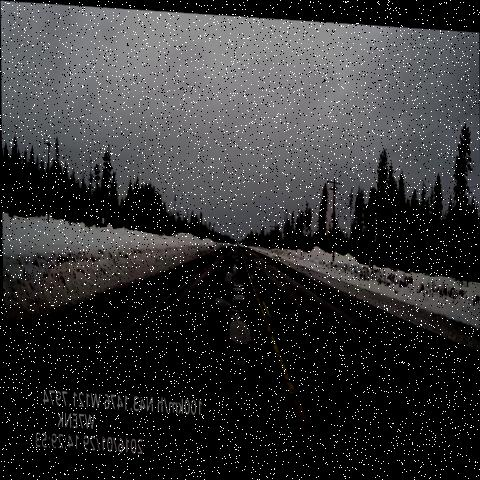pothole: (339, 363, 401, 423), (219, 373, 272, 433), (219, 301, 257, 348), (225, 342, 255, 372), (227, 270, 248, 302), (229, 241, 241, 273)
